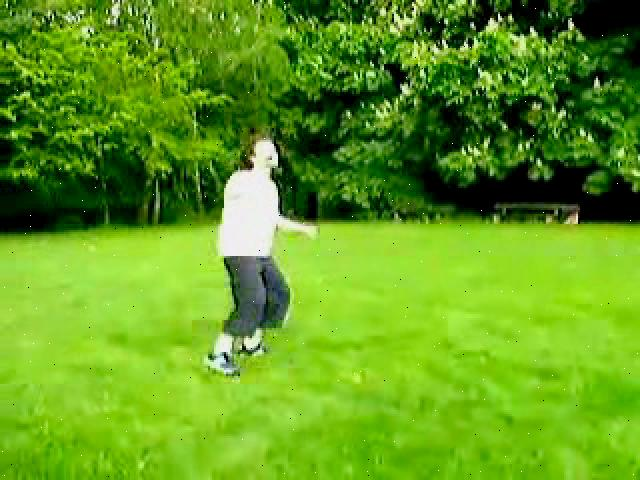T: (180, 115, 322, 386)
